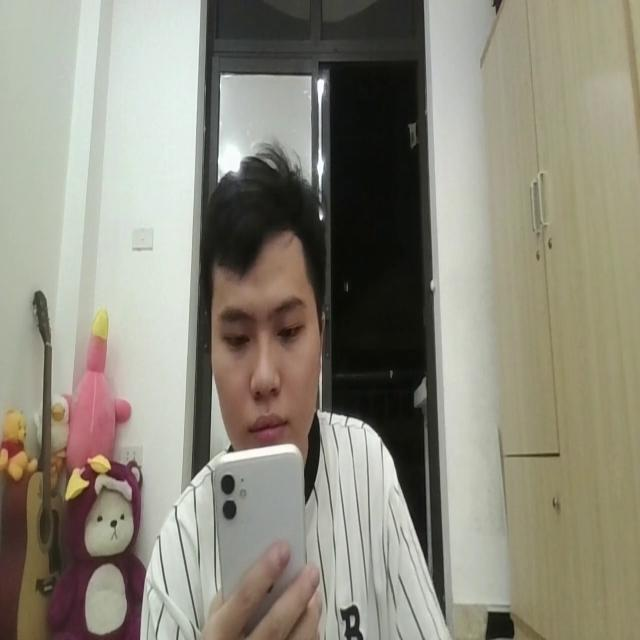phone: (209, 440, 309, 616)
student: (144, 138, 448, 640)
